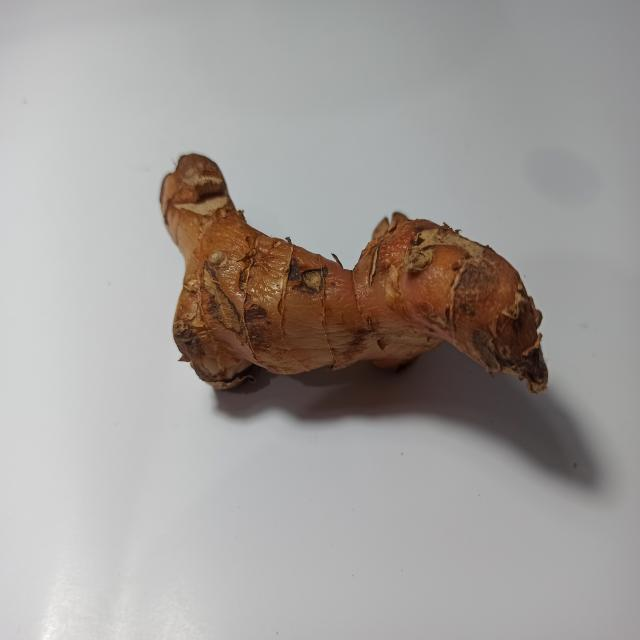ginger: (174, 138, 544, 406)
